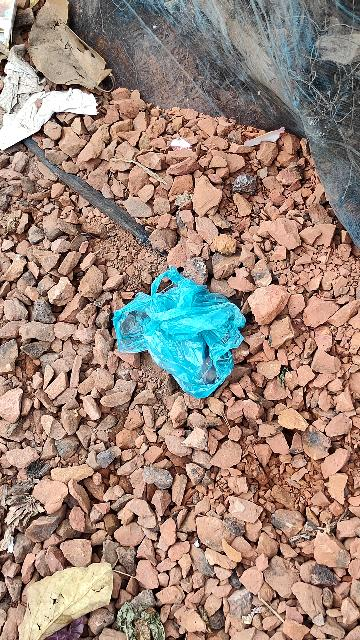polythene: (118, 266, 249, 398)
